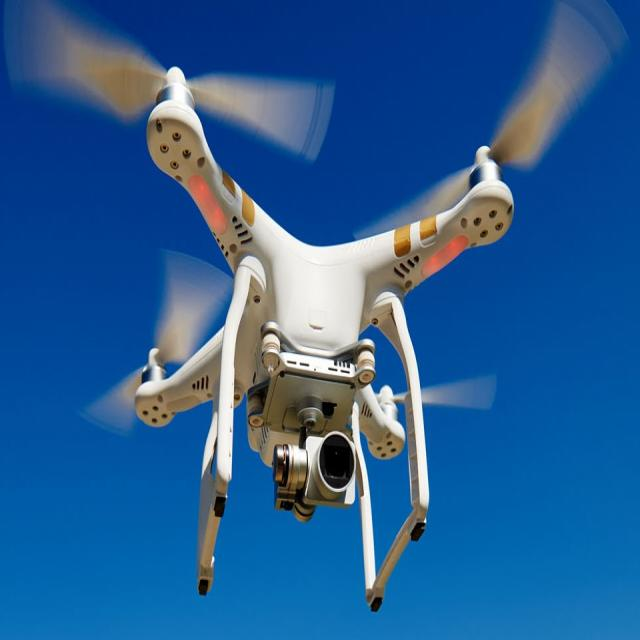drone: (0, 0, 626, 620)
